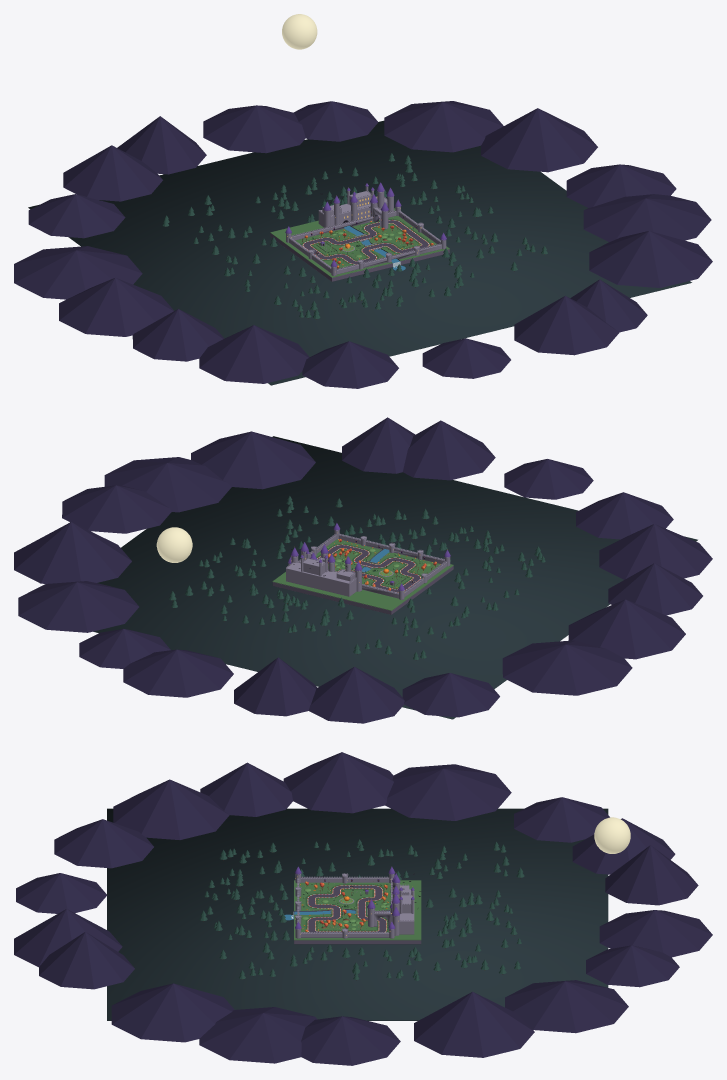
3 renders of one model, top to bottom at view 1: azimuth 30°, elevation 25°; view 2: azimuth 150°, elevation 25°; view 3: azimuth 270°, elevation 25°, orthographic. The views are drawn at different scales.
Parts seen in each view (by area): view 1: Outside, Ground, Walls, Castle, Track, Garden, Sky; view 2: Outside, Ground, Castle, Walls, Track, Sky, Garden; view 3: Outside, Ground, Track, Walls, Castle, Garden, Sky.
Part boxes in pixels (bbox=[...]): Outside: bbox=[14, 101, 712, 388]; Ground: bbox=[270, 208, 449, 281]; Walls: bbox=[285, 199, 446, 275]; Castle: bbox=[318, 182, 394, 229]; Track: bbox=[301, 219, 430, 264]; Garden: bbox=[299, 217, 433, 270]; Sky: bbox=[282, 14, 389, 207]; Outside: bbox=[14, 417, 712, 723]; Ground: bbox=[272, 539, 453, 614]; Castle: bbox=[286, 542, 362, 596]; Walls: bbox=[288, 523, 450, 599]; Track: bbox=[316, 544, 421, 592]; Sky: bbox=[156, 527, 347, 576]; Garden: bbox=[327, 539, 437, 591]; Outside: bbox=[14, 752, 712, 1065]; Ground: bbox=[294, 880, 421, 944]; Track: bbox=[305, 884, 388, 932]; Walls: bbox=[295, 866, 395, 938]; Castle: bbox=[367, 873, 414, 935]; Garden: bbox=[284, 881, 389, 932]; Sky: bbox=[392, 817, 630, 902].
Bounding box in the file's own units: 861 × 168 × 836.
Materials: 3 (3 with a texture image).
